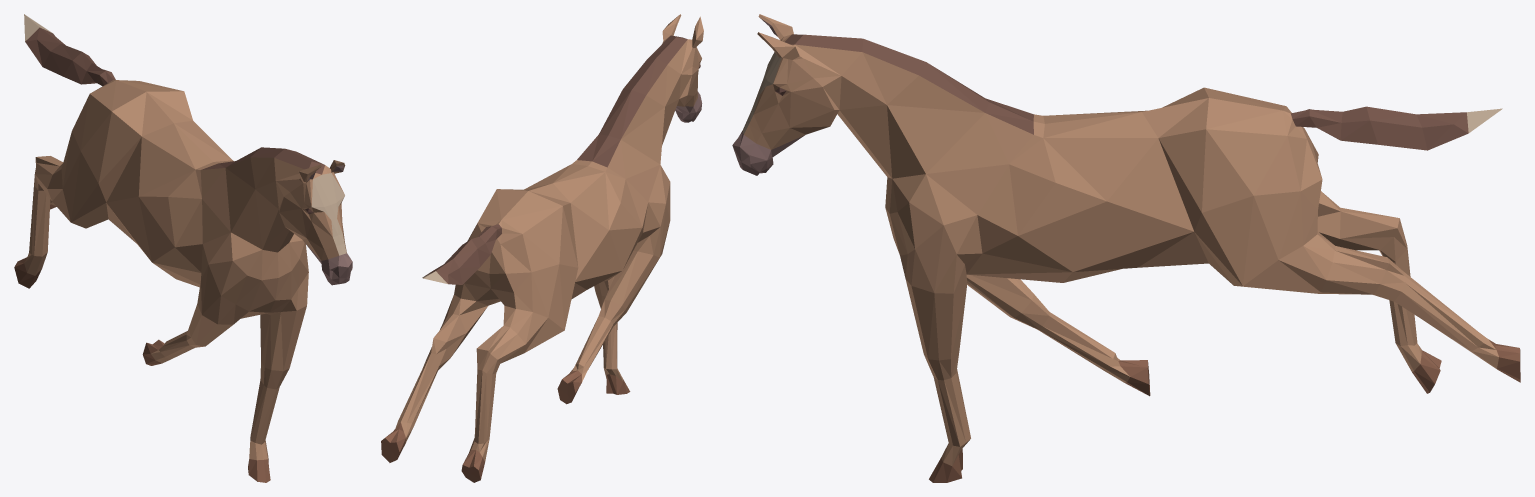
Rendered from Horse.glb.
The picture shows the model from 3 angles, left to right: view 1: azimuth 30°, elevation 25°; view 2: azimuth 150°, elevation 25°; view 3: azimuth 270°, elevation 25°; orthographic projection. The views are drawn at different scales.
Visible parts, largest first — view 1: mesh_0; view 2: mesh_0; view 3: mesh_0.
Part boxes in pixels (x1,y1,x2,y2): mesh_0: (14, 14, 352, 482); mesh_0: (381, 14, 703, 482); mesh_0: (732, 14, 1520, 482).
Size of the model in its own units: 63.47 by 194 by 304.
